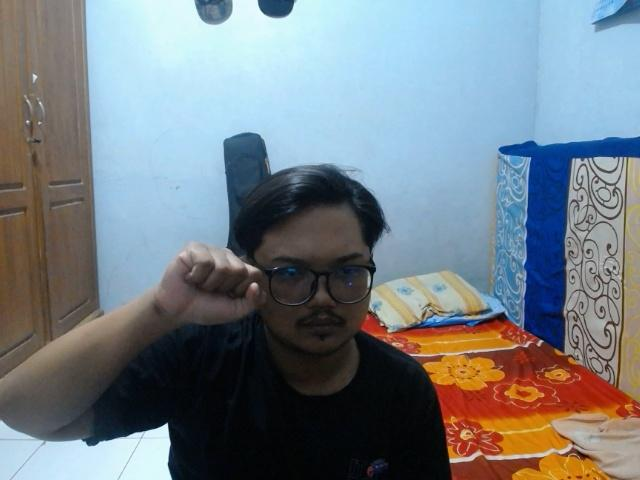Grab: (150, 237, 266, 331)
